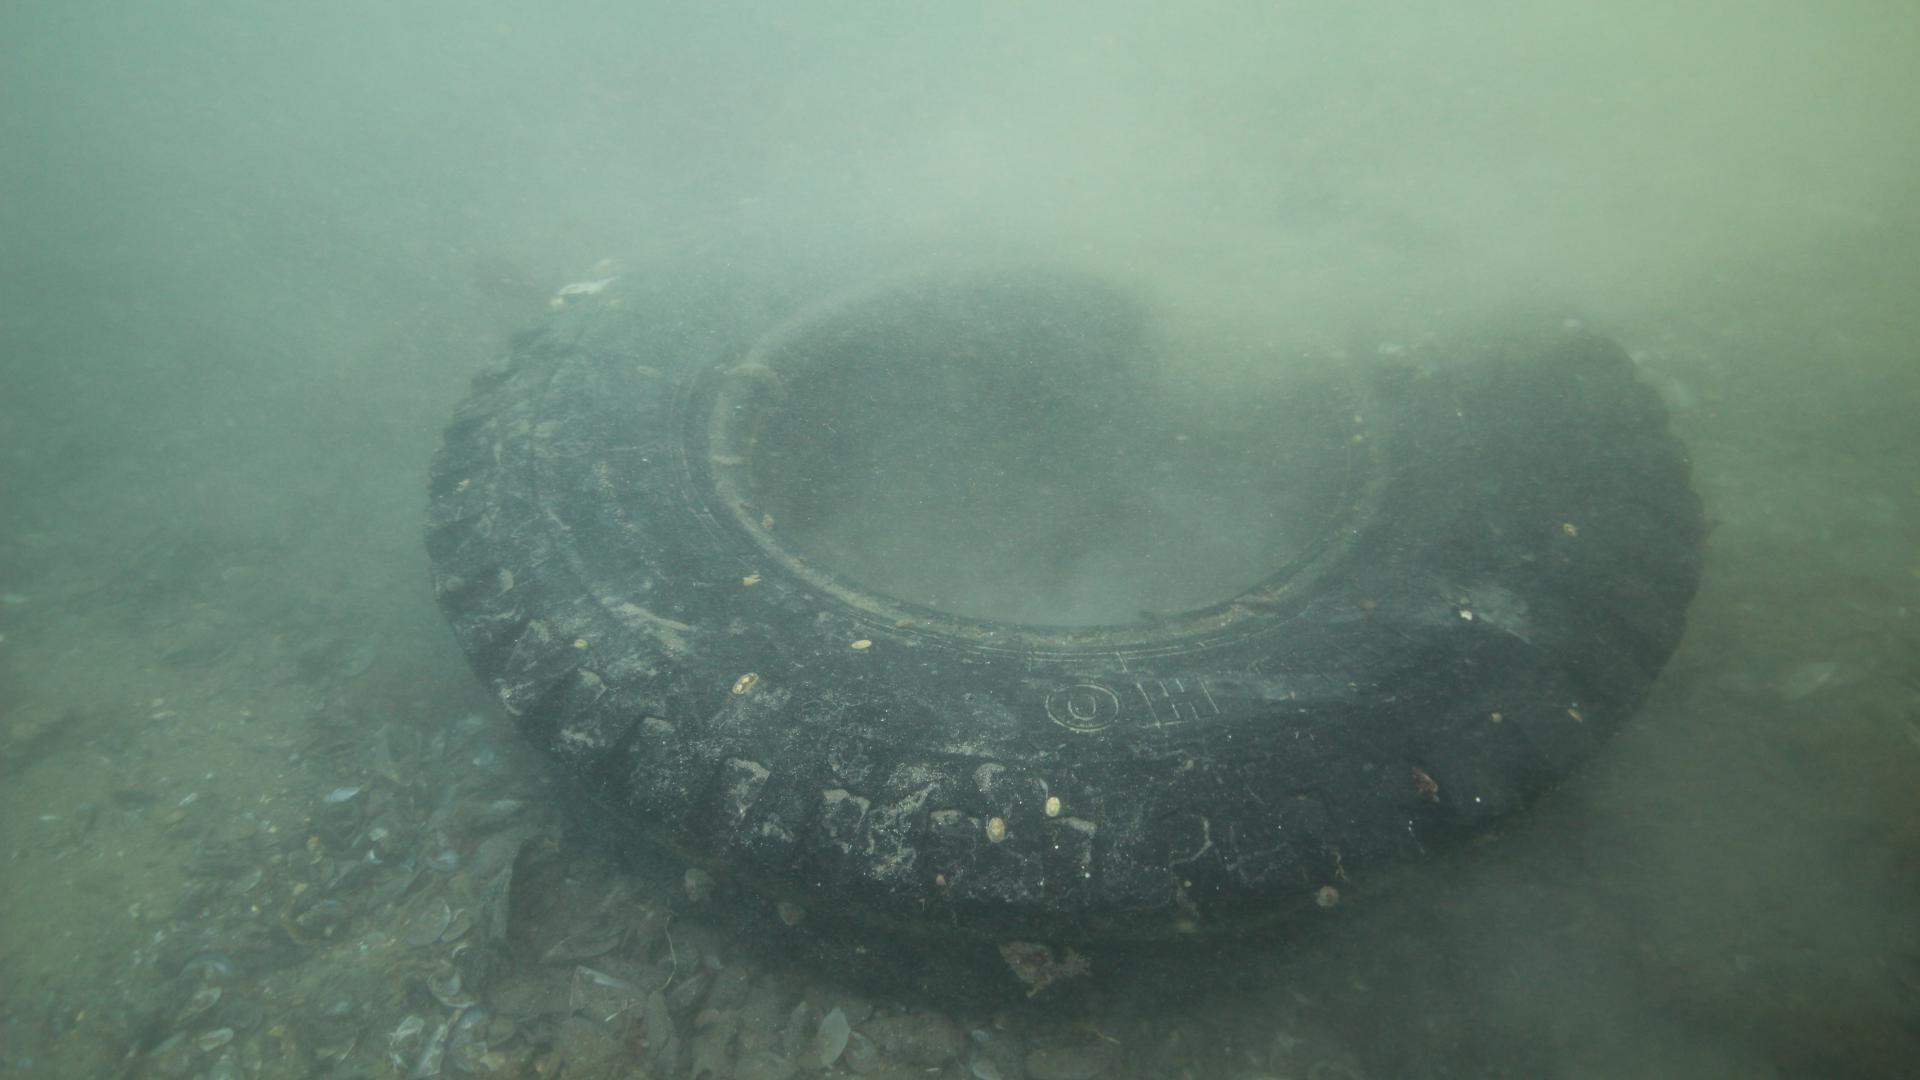tire: (423, 177, 1708, 1021)
